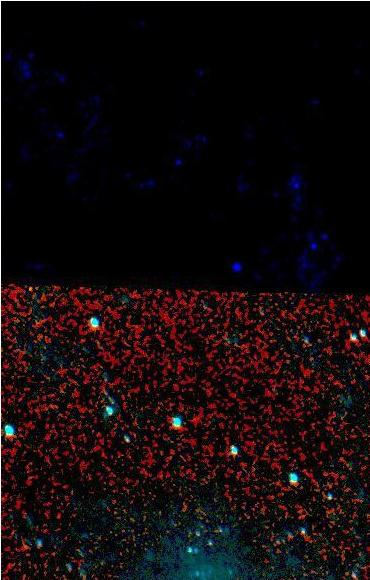star: (42, 502, 72, 532)
